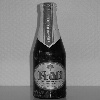beer: (28, 1, 74, 100)
